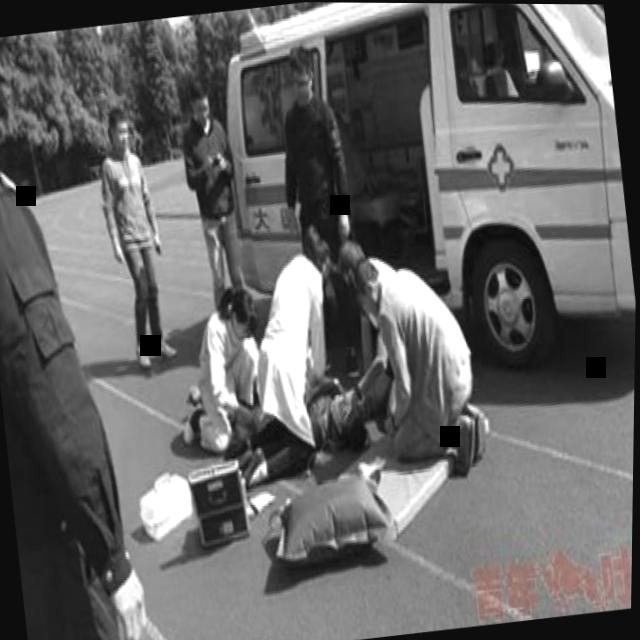Fall-Detected: (177, 345, 390, 496)
